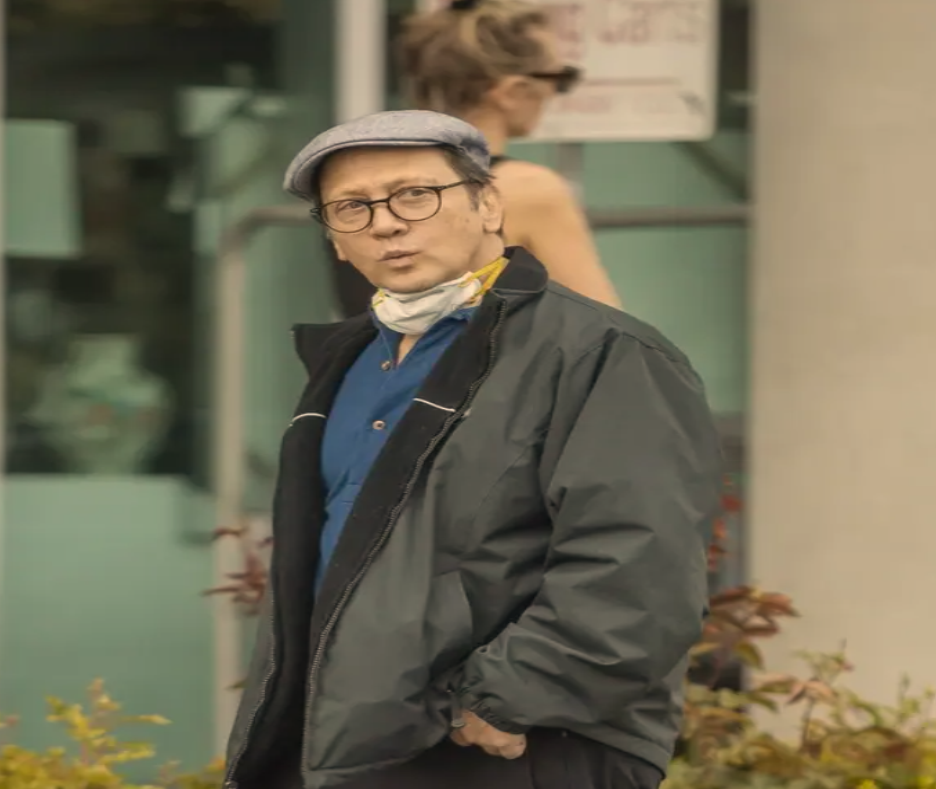mask_weared_incorrect: (281, 104, 528, 339)
